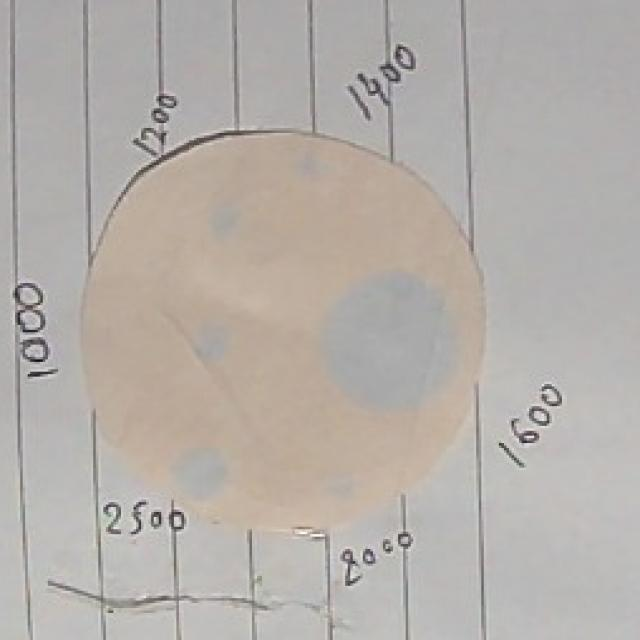BlueColor: (323, 271, 456, 409), (171, 448, 224, 497), (194, 322, 229, 359), (320, 473, 360, 500), (209, 207, 237, 236), (295, 150, 325, 177)
